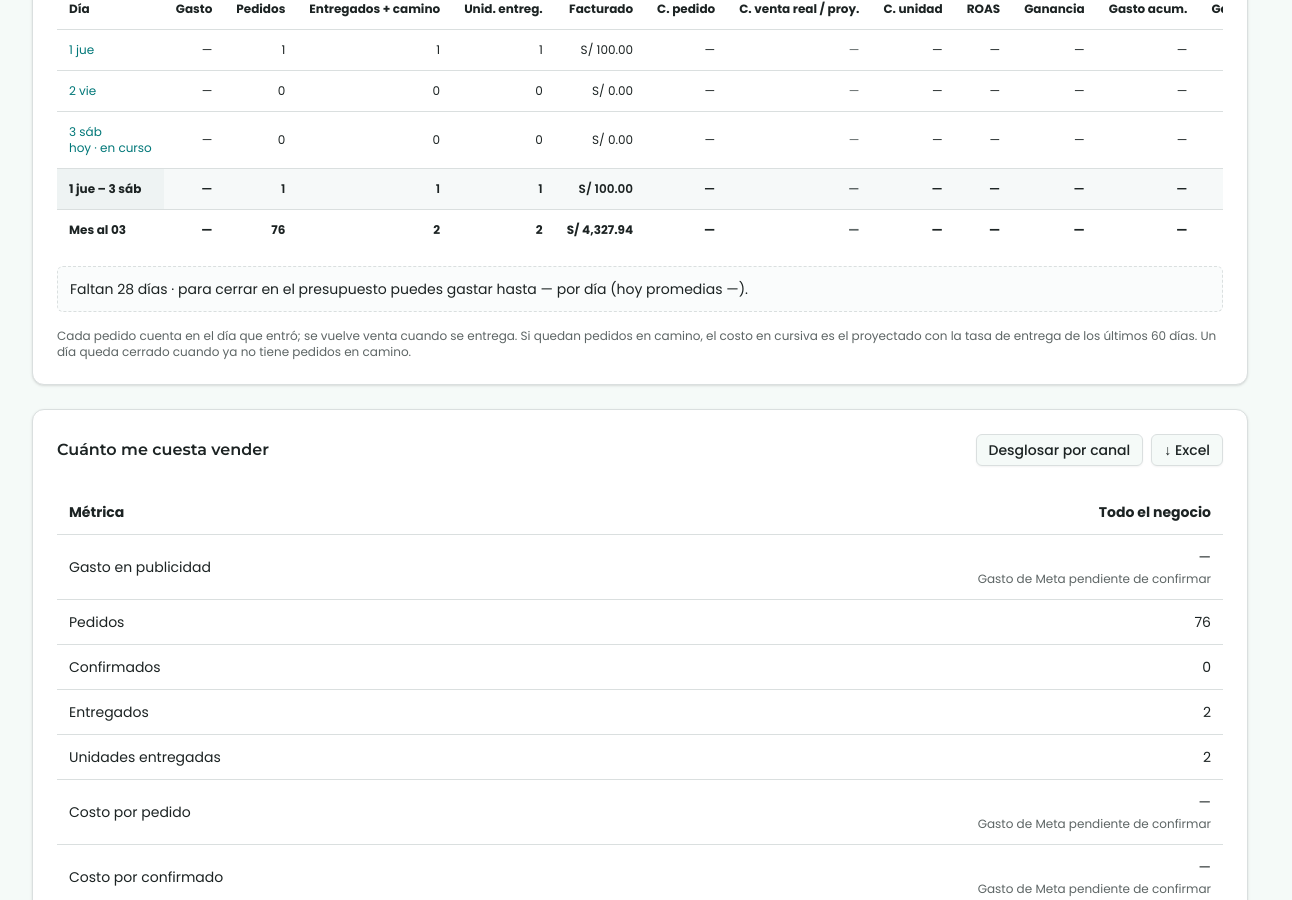
Test: keeps the 76 advertising orders separate from 9 other-channel records and links to Sales
The image size is (1292, 900).
(page scrolled)
Expected: the cells read "76", in this order, [690,600,1223,644]
What coordinates should you click on to do the following:
click the button "Desglosar por canal"
I would click on:
 (1059, 450)
Its box is [976,434,1143,466].
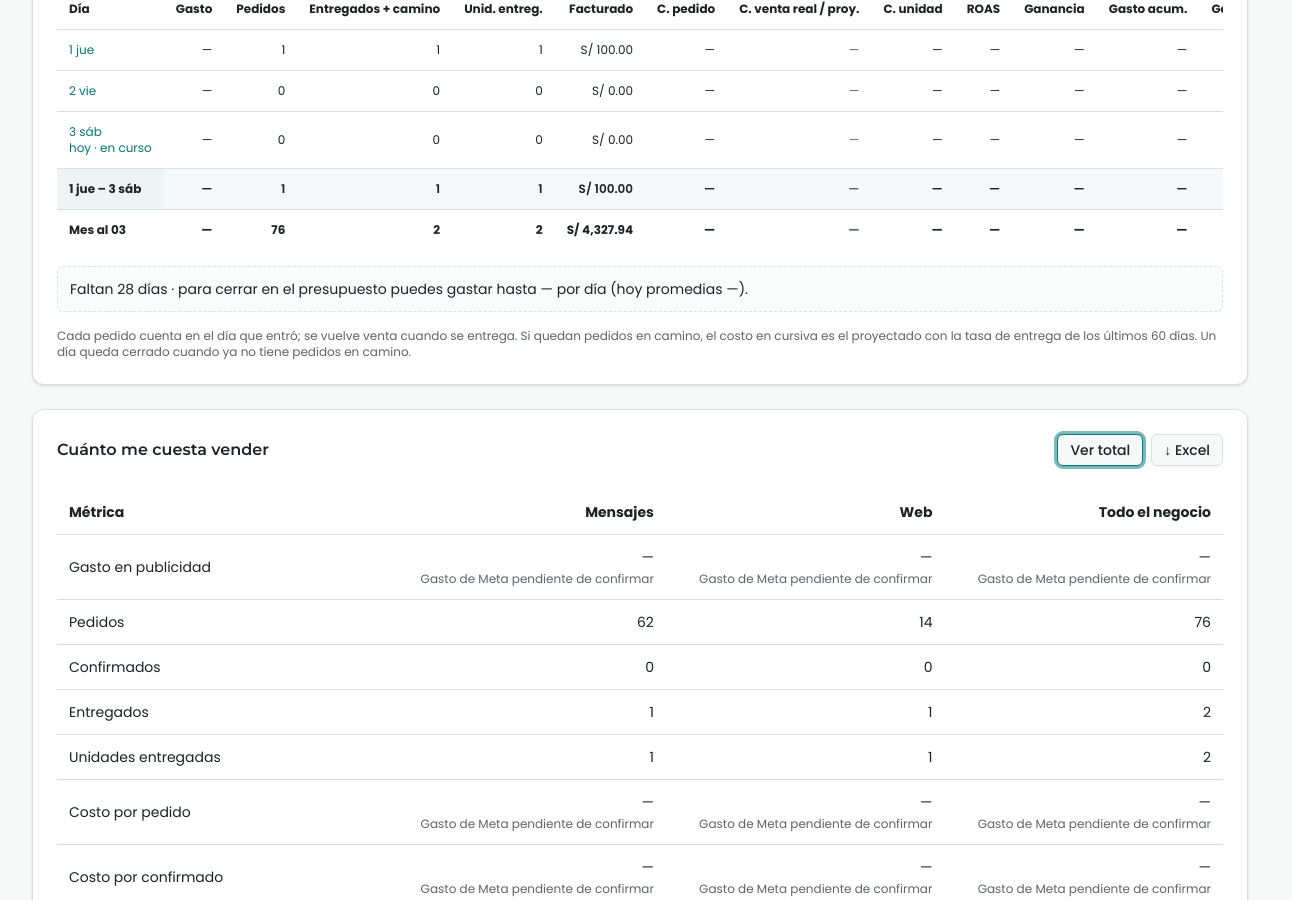
Expected: the cells read "62", "14", "76", in this order, [387,600,666,644]; [666,600,944,644]; [944,600,1223,644]
